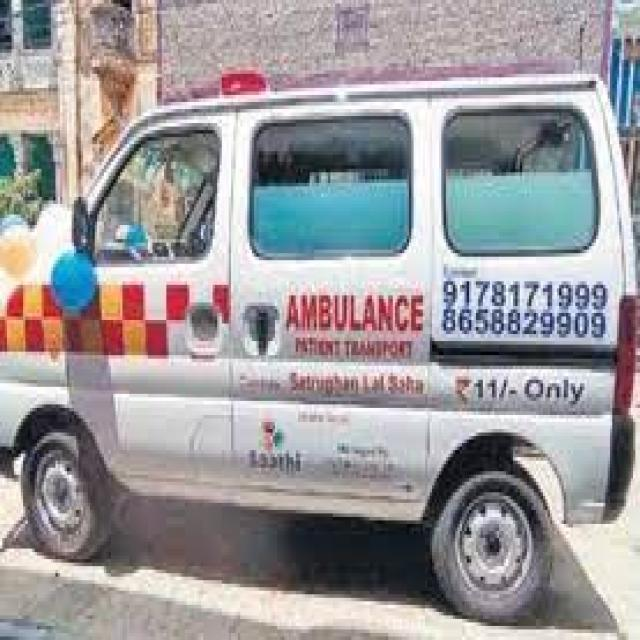ambulance: (28, 55, 622, 584)
